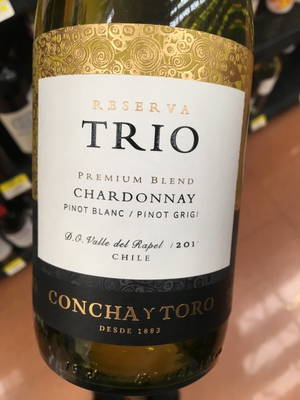trio chardonnay: (29, 4, 255, 385)
